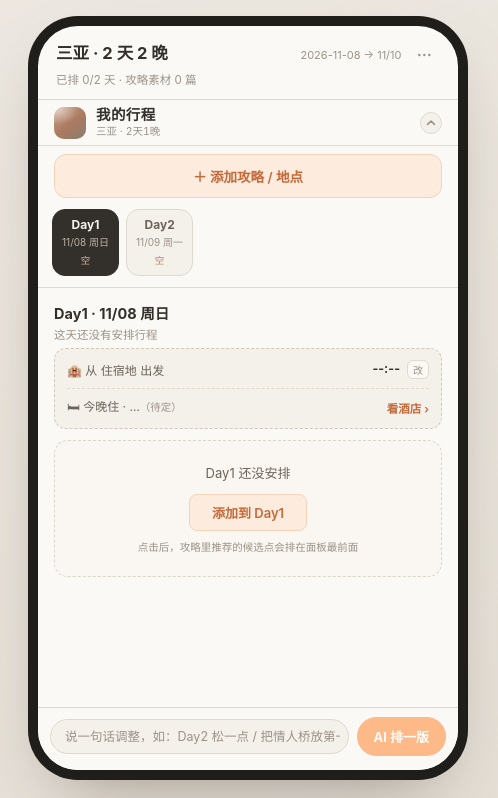
TripView 待办清单浮层（Task #265） › 待办清单挂载广播使近期操作让位（互斥）
Later steps or results of the test are not shown.
Click the button named "更多操作": (425, 56) left=410, top=46, right=440, bottom=65
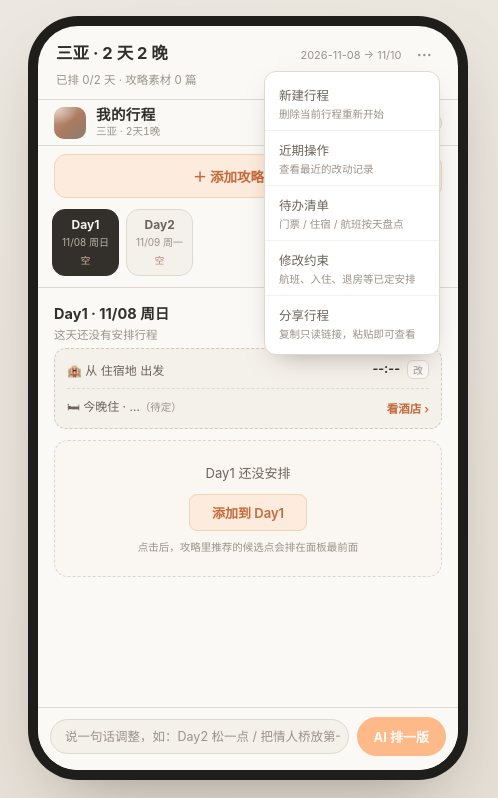
Click the menu item "近期操作 查看最近的改动记录": (352, 158) left=265, top=130, right=439, bottom=185
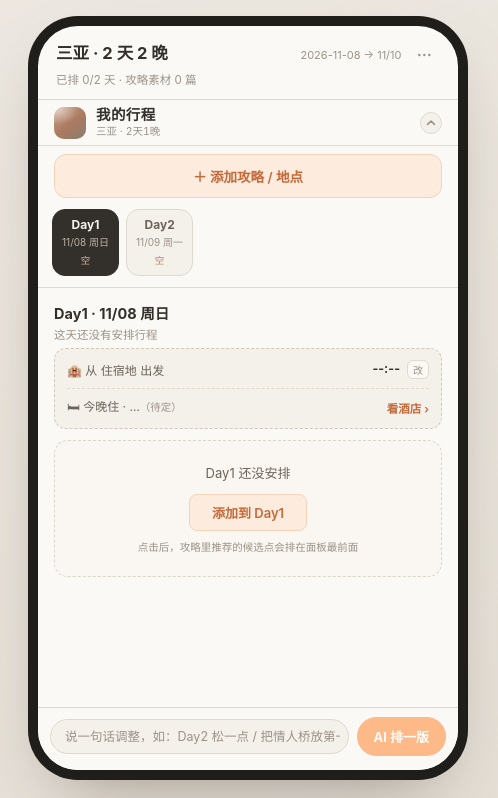
Result: the menu item "近期操作" is gone
